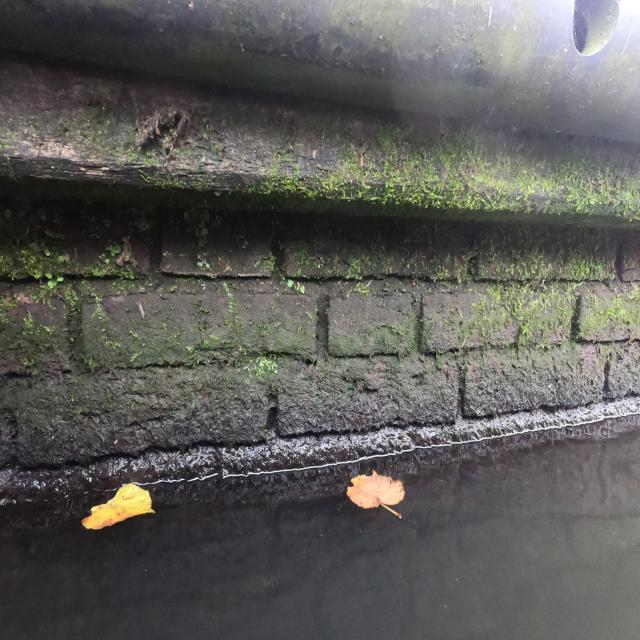wall: (2, 0, 628, 472)
water: (0, 424, 638, 634)
